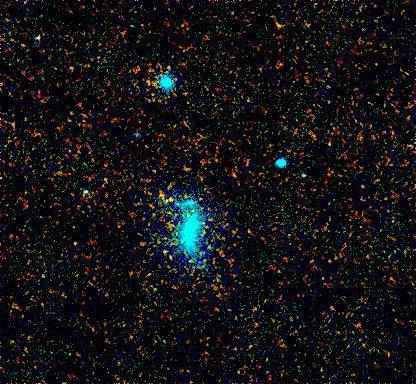star: (131, 230, 161, 260)
